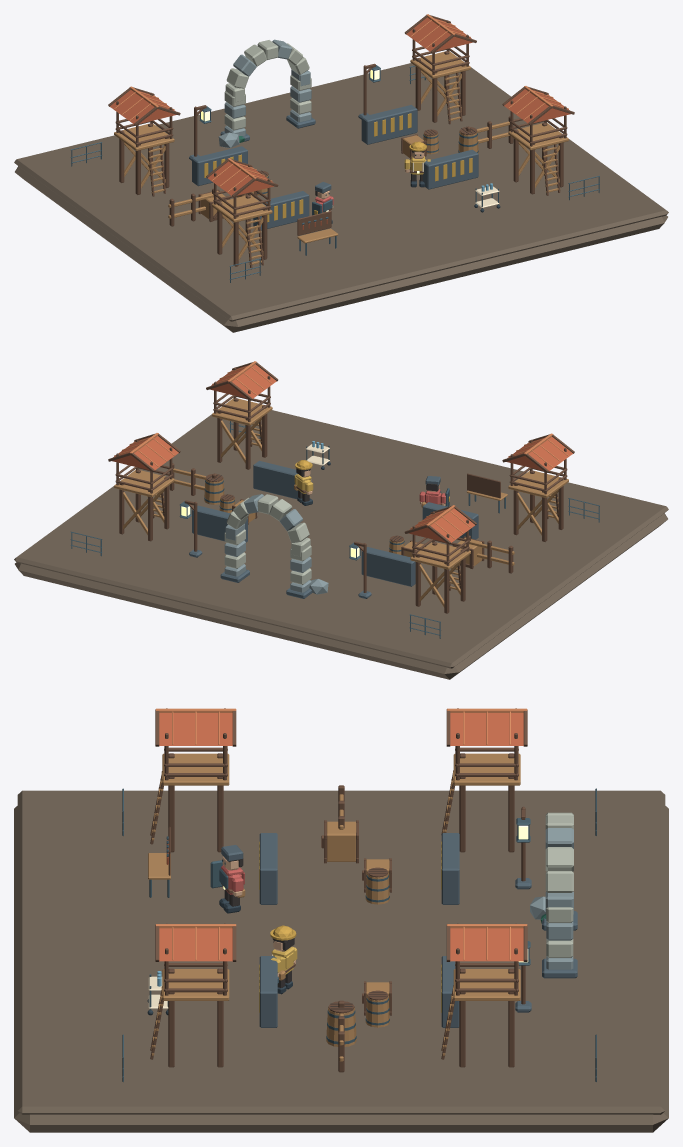
The model's file is world-arena.glb.
3 renders of one model, top to bottom at view 1: azimuth 30°, elevation 25°; view 2: azimuth 150°, elevation 25°; view 3: azimuth 270°, elevation 25°, orthographic. The views are drawn at different scales.
Parts seen in each view (by area): view 1: terrain-top, terrain-stratum, barrier.004, barrier.003, tower-canopy.003, tower-canopy.002, tower-canopy.004, tower-canopy.001, barrier.001, barrier.002, tower-deck.001, tower-deck.004 (+3 smaller); view 2: terrain-top, terrain-stratum, barrier.002, barrier.003, tower-canopy.004, tower-canopy.001, tower-canopy.003, tower-canopy.002, barrier.004, tower-deck.002, tower-deck.003, tower-deck.004 (+3 smaller); view 3: terrain-top, terrain-stratum, tower-canopy.003, tower-canopy.004, tower-canopy.001, tower-canopy.002, tower-deck.003, tower-deck.004, tower-deck.001, tower-deck.002, barrier.001, barrier.002 (+6 smaller).
Part boxes in pixels (<box>): terrain-top: <box>14,63,668,321</box>; terrain-stratum: <box>15,166,667,332</box>; barrier.004: <box>361,105,417,144</box>; barrier.003: <box>423,149,478,189</box>; tower-canopy.003: <box>504,89,570,123</box>; tower-canopy.002: <box>109,90,176,123</box>; tower-canopy.004: <box>406,17,472,51</box>; tower-canopy.001: <box>207,161,273,195</box>; barrier.001: <box>253,191,309,230</box>; barrier.002: <box>192,146,247,186</box>; tower-deck.001: <box>212,195,272,222</box>; tower-deck.004: <box>410,51,470,78</box>; terrain-top: <box>14,410,668,668</box>; terrain-stratum: <box>15,513,667,679</box>; barrier.002: <box>361,547,415,586</box>; barrier.003: <box>253,460,297,499</box>; tower-canopy.004: <box>112,436,178,470</box>; tower-canopy.001: <box>506,437,573,470</box>; tower-canopy.003: <box>210,364,276,398</box>; tower-canopy.002: <box>409,508,475,542</box>; barrier.004: <box>192,505,247,542</box>; tower-deck.002: <box>410,542,470,569</box>; tower-deck.003: <box>212,398,272,425</box>; tower-deck.004: <box>114,470,174,497</box>; terrain-top: <box>17,790,665,1114</box>; terrain-stratum: <box>14,806,668,1132</box>; tower-canopy.003: <box>159,928,232,961</box>; tower-canopy.004: <box>450,928,523,961</box>; tower-canopy.001: <box>159,713,232,745</box>; tower-canopy.002: <box>450,713,523,745</box>; tower-deck.003: <box>162,969,229,1000</box>; tower-deck.004: <box>453,969,520,1000</box>; tower-deck.001: <box>162,753,229,785</box>; tower-deck.002: <box>453,753,520,785</box>; barrier.001: <box>259,833,277,904</box>; barrier.002: <box>441,833,459,904</box>.
Size of the model in its own units: 21 by 4.88 by 18.
